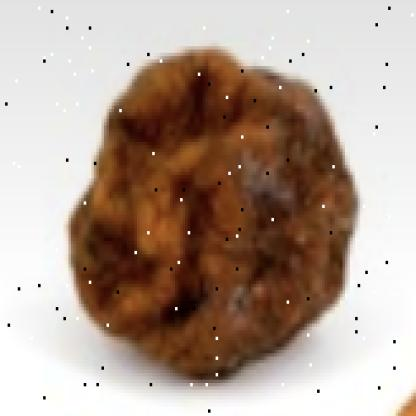rotten: (68, 50, 362, 383)
